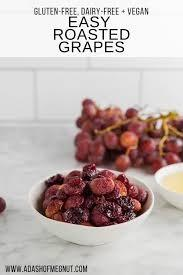Grape Rotten: (74, 98, 182, 173), (42, 162, 148, 226), (0, 196, 6, 213)
